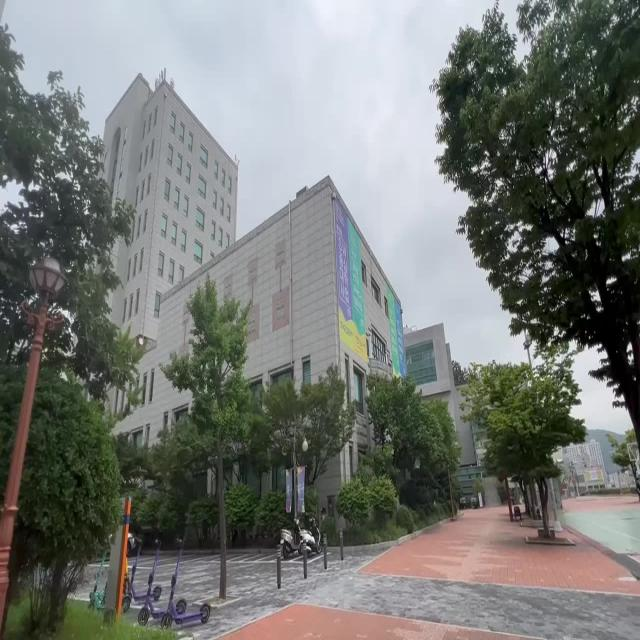building: (119, 74, 238, 296)
